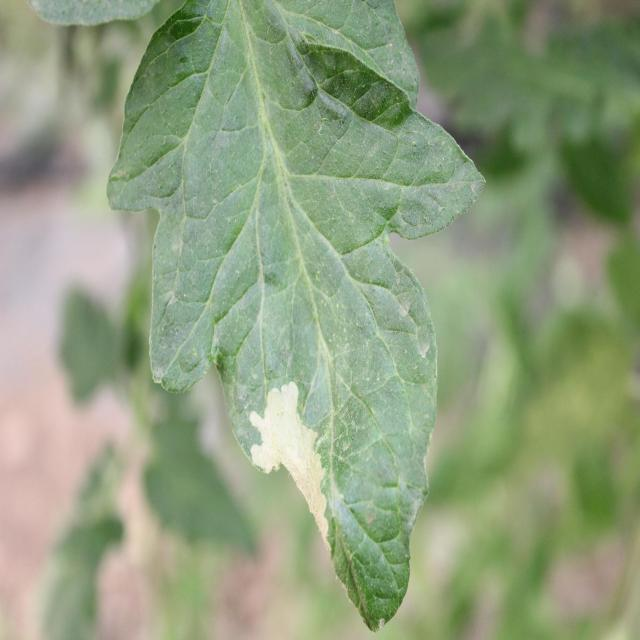Tuta absoluta: (230, 379, 360, 567)
